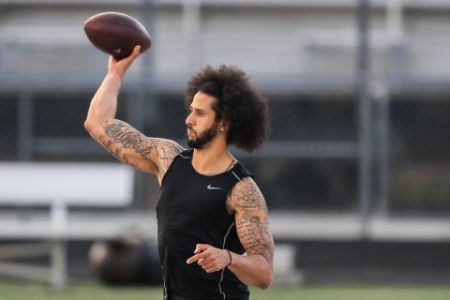futbol americano: (83, 11, 152, 58)
